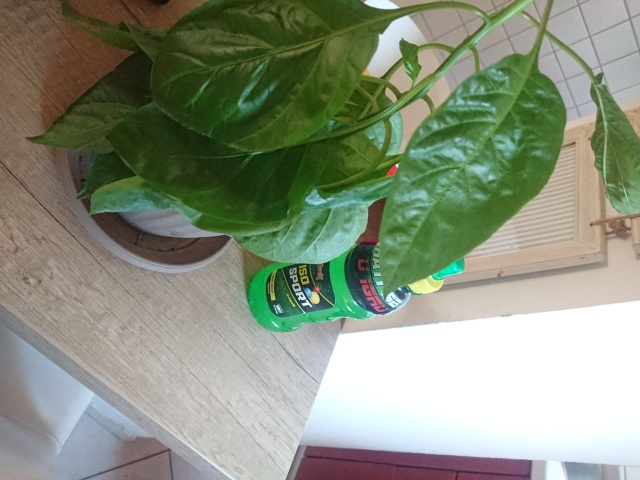Vindi Iso Sport Lemon-Grapefruit 500mL: (244, 235, 467, 335)
